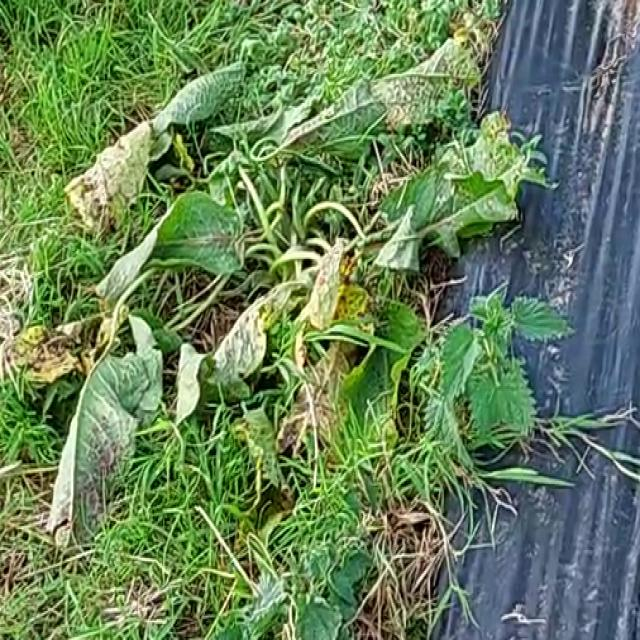organic waste: (32, 55, 526, 540)
